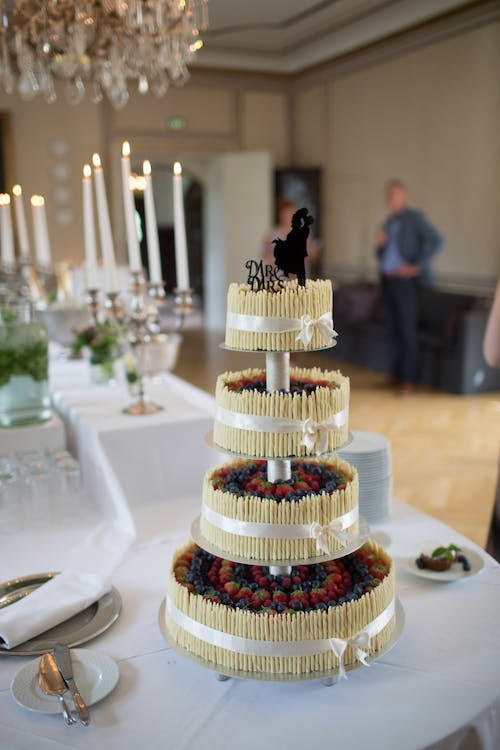knife: (53, 640, 94, 728)
